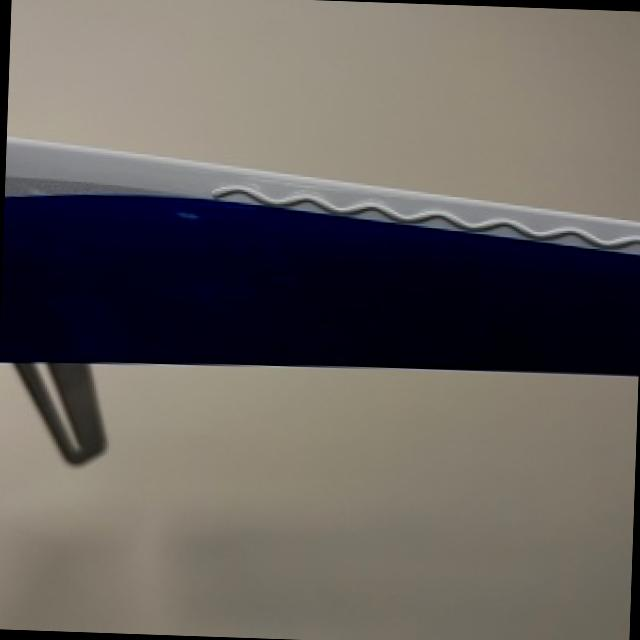healthy: (1, 136, 640, 459)
